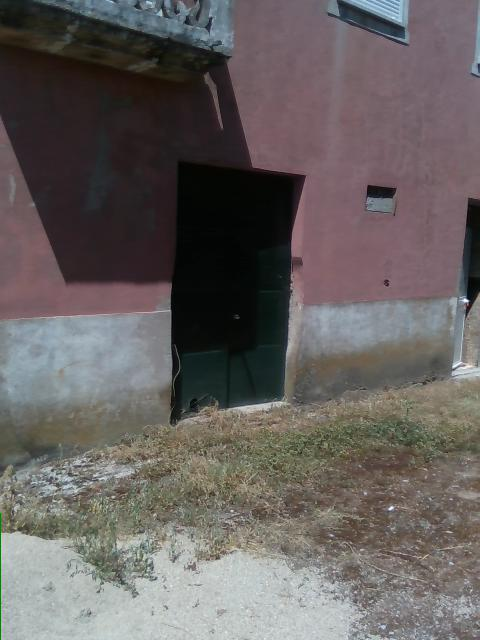door: (175, 166, 294, 414), (451, 200, 480, 372)
